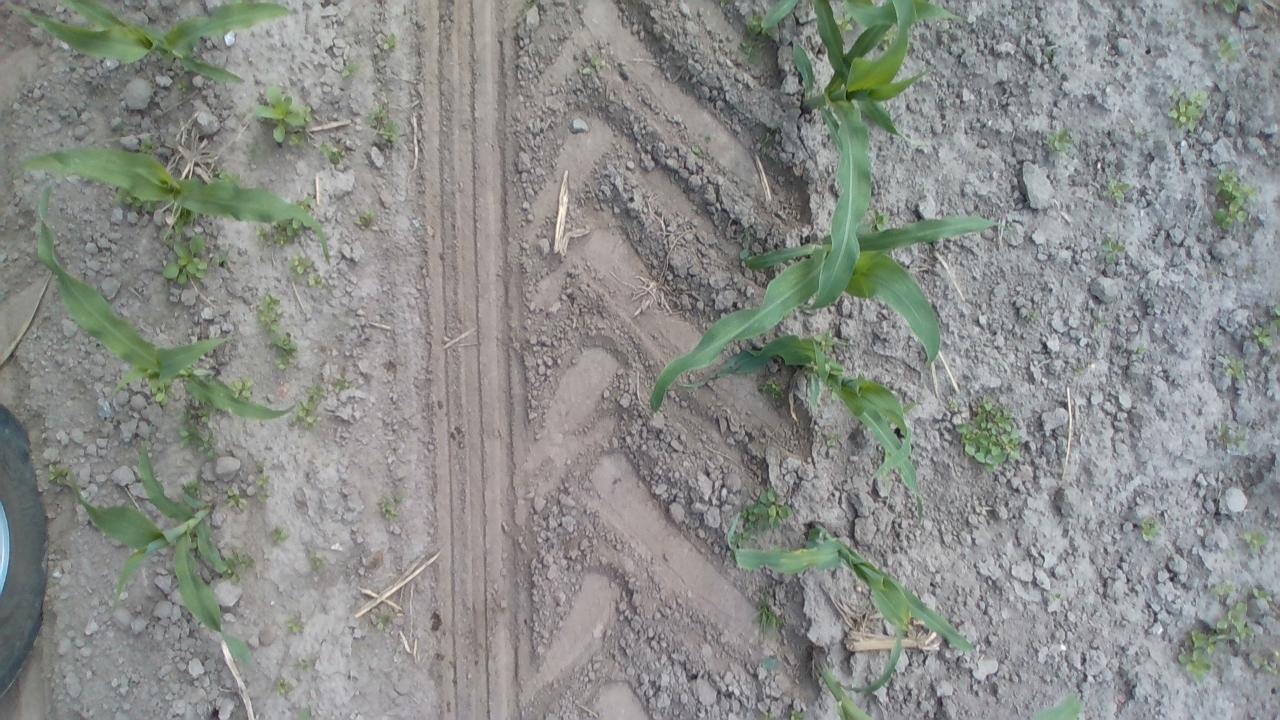Maize: (651, 213, 1021, 414), (36, 178, 298, 417), (679, 335, 926, 528), (66, 418, 254, 668), (792, 0, 928, 311), (18, 148, 332, 266), (724, 509, 974, 652), (6, 0, 298, 86), (812, 626, 904, 720), (844, 0, 962, 28), (1029, 692, 1085, 720), (758, 0, 799, 30), (296, 705, 312, 720)
Weeds: (1176, 602, 1256, 683), (954, 390, 1021, 472), (252, 84, 314, 148), (1208, 165, 1258, 231), (157, 232, 210, 284), (739, 480, 794, 530), (173, 402, 219, 459), (288, 382, 326, 432), (1165, 88, 1206, 132), (752, 588, 782, 634), (266, 331, 298, 370), (365, 106, 399, 142), (255, 292, 284, 334), (225, 551, 257, 586), (1216, 418, 1250, 450), (254, 223, 300, 246), (1140, 515, 1168, 549), (1214, 35, 1245, 65), (1251, 645, 1280, 676), (1042, 124, 1074, 151), (378, 490, 403, 524), (1100, 236, 1128, 266), (736, 40, 767, 66), (1102, 176, 1130, 204), (743, 12, 773, 38), (1203, 0, 1258, 14), (169, 204, 193, 233), (317, 140, 346, 164), (145, 380, 172, 405), (375, 32, 396, 64), (1244, 528, 1268, 556), (286, 253, 312, 276), (184, 467, 205, 495), (230, 378, 258, 399), (1225, 356, 1248, 380), (226, 487, 248, 511), (756, 376, 782, 396), (46, 463, 72, 483), (868, 208, 889, 232), (1253, 322, 1273, 346), (736, 229, 751, 260), (814, 330, 835, 352), (354, 211, 377, 231), (340, 60, 362, 80), (583, 56, 606, 75), (759, 653, 782, 672), (284, 614, 304, 635), (270, 526, 290, 546), (333, 375, 353, 395), (308, 550, 326, 572), (1210, 582, 1234, 598), (274, 678, 293, 698), (213, 170, 244, 182), (836, 13, 854, 32), (730, 532, 751, 548), (1134, 128, 1155, 144), (1252, 586, 1274, 601), (374, 615, 393, 632), (763, 126, 779, 146), (1092, 312, 1110, 329), (131, 202, 156, 214), (140, 137, 158, 153), (112, 192, 134, 205), (1270, 304, 1280, 330), (754, 710, 778, 720), (290, 659, 310, 671), (254, 474, 272, 487), (306, 274, 322, 288), (827, 434, 841, 448), (1072, 362, 1086, 376), (1026, 310, 1040, 324), (175, 80, 190, 93), (1205, 266, 1221, 278), (886, 26, 896, 44), (1242, 262, 1257, 274), (214, 253, 226, 266), (524, 0, 536, 13), (790, 709, 804, 720), (258, 493, 272, 504), (689, 144, 702, 155), (919, 180, 929, 194), (256, 457, 264, 474), (1134, 346, 1150, 354), (1051, 592, 1063, 602), (703, 134, 713, 144), (1228, 550, 1238, 560), (946, 400, 958, 408), (1046, 48, 1054, 60), (719, 2, 729, 8)
